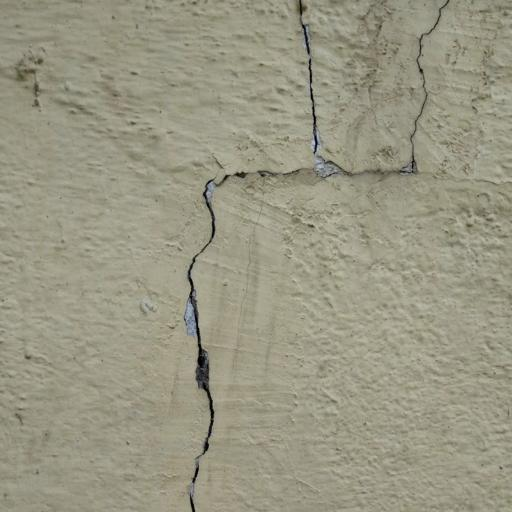major_crack: (171, 0, 457, 512)
